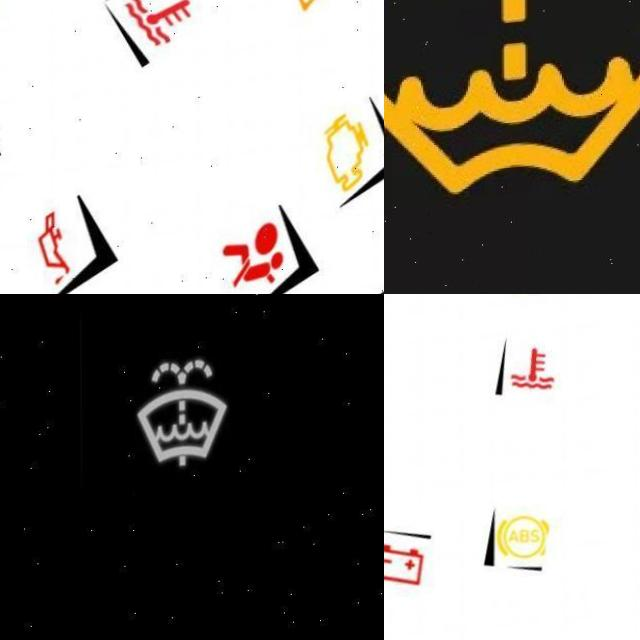Washer Fluid: (384, 0, 640, 214), (133, 363, 229, 479)
